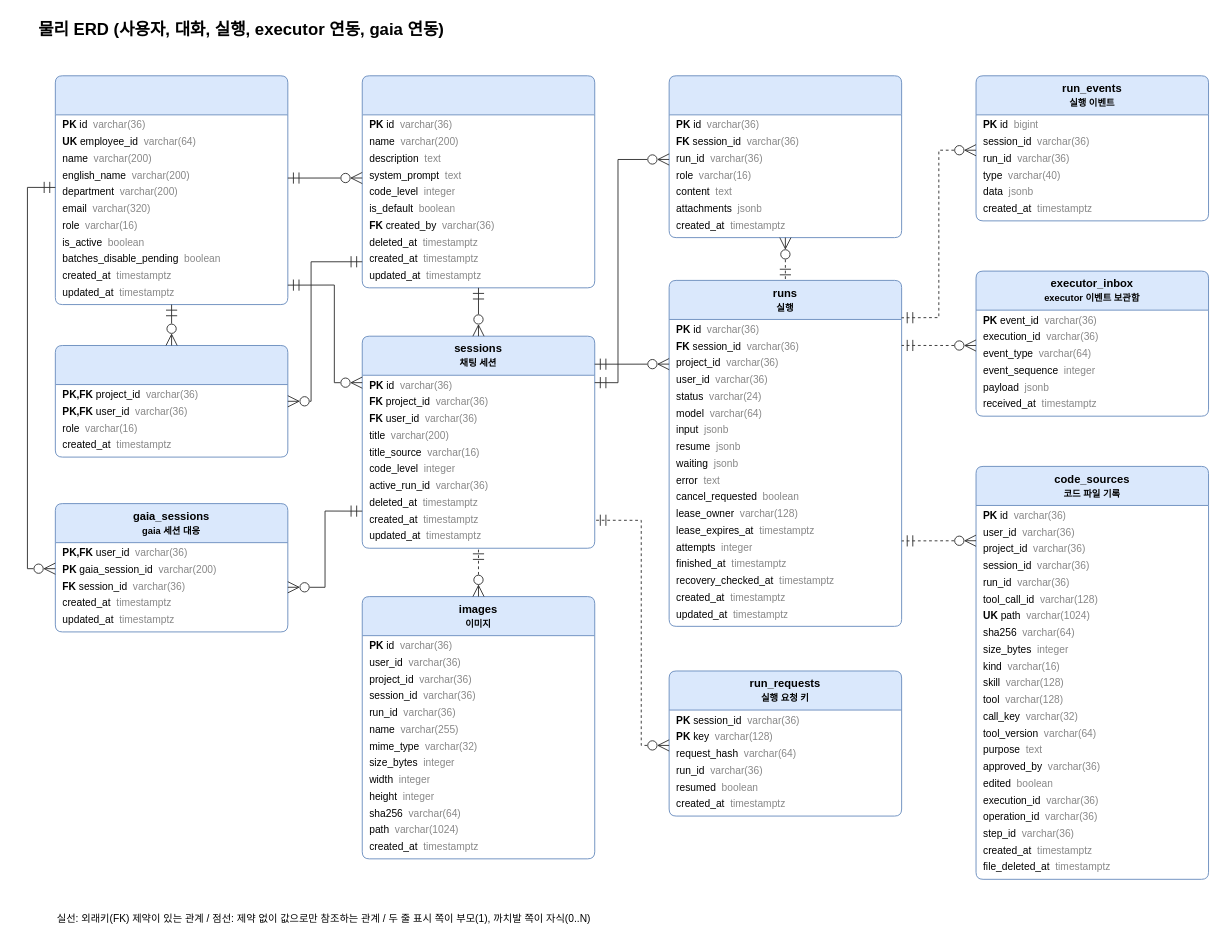
The diagram is 1225 pixels wide and 943 high, and some of its shapes have lost their labels. Each missing label, with the box of its shape:
messages 메시지: (668, 75, 902, 238)
project_members 프로젝트 구성원: (54, 345, 288, 457)
projects 프로젝트: (361, 75, 595, 288)
users 사용자: (54, 75, 288, 305)
